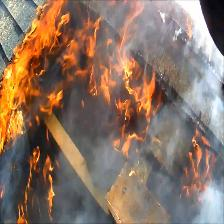fire: (97, 57, 144, 111), (25, 149, 52, 216), (1, 72, 22, 133), (68, 38, 95, 72), (35, 15, 60, 48), (15, 45, 34, 67)
smoke: (64, 133, 106, 217)
